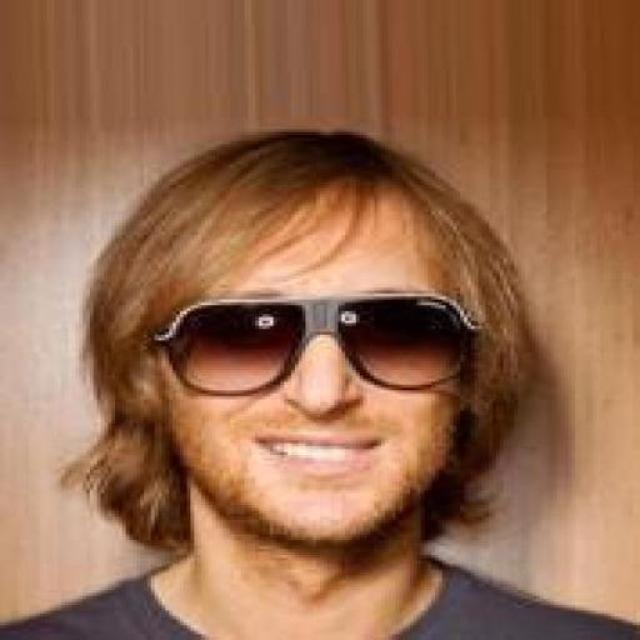bareface: (120, 253, 465, 551)
